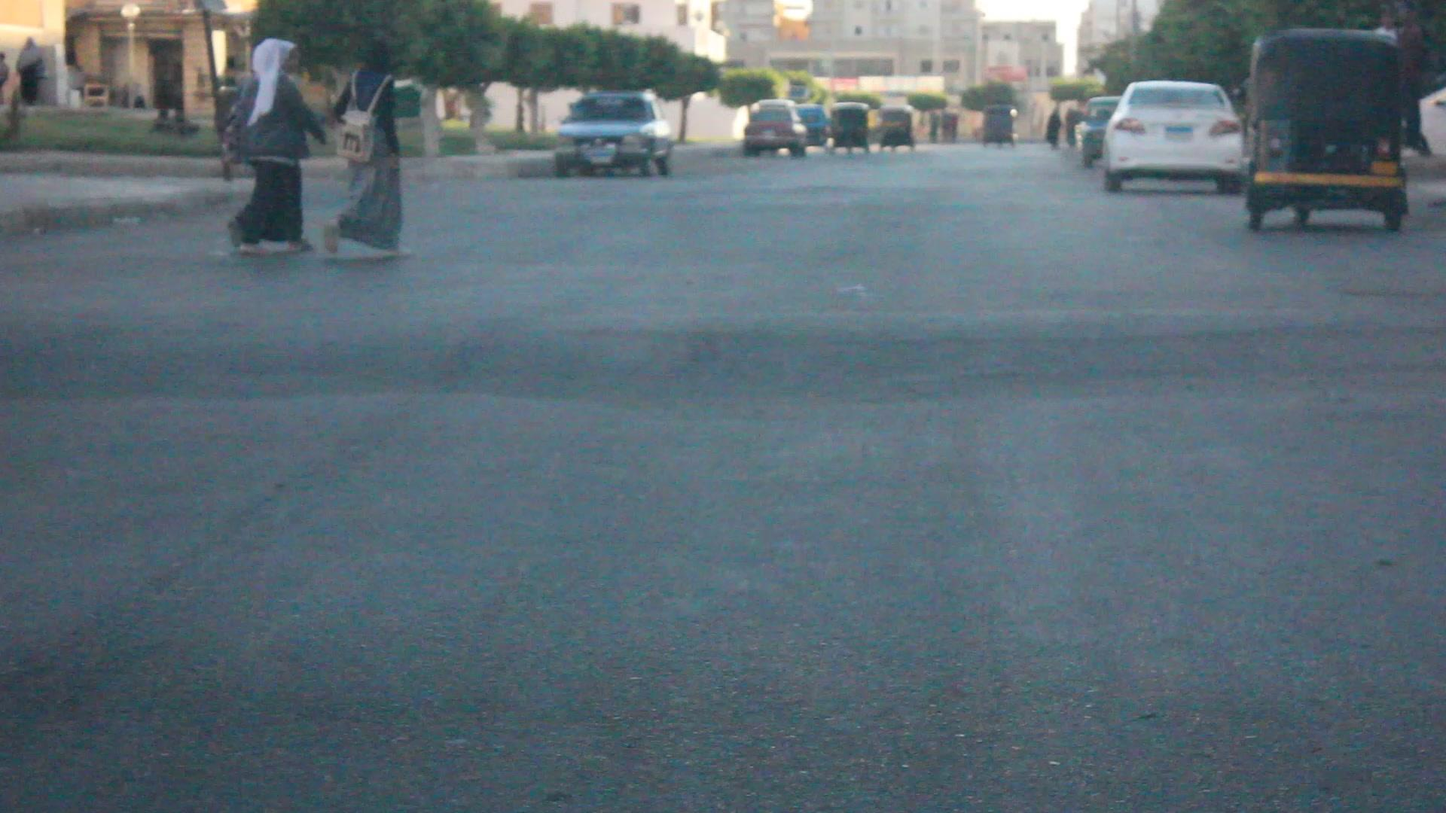Bump: (0, 292, 1446, 397)
